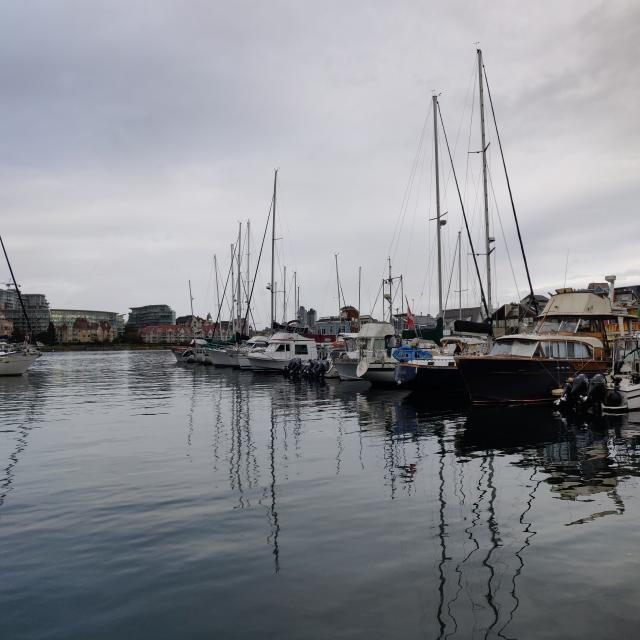boat: (354, 80, 489, 387), (390, 65, 512, 399), (454, 273, 636, 409), (206, 164, 288, 370), (333, 272, 418, 387), (552, 336, 640, 424), (282, 330, 366, 377), (244, 328, 320, 374)
